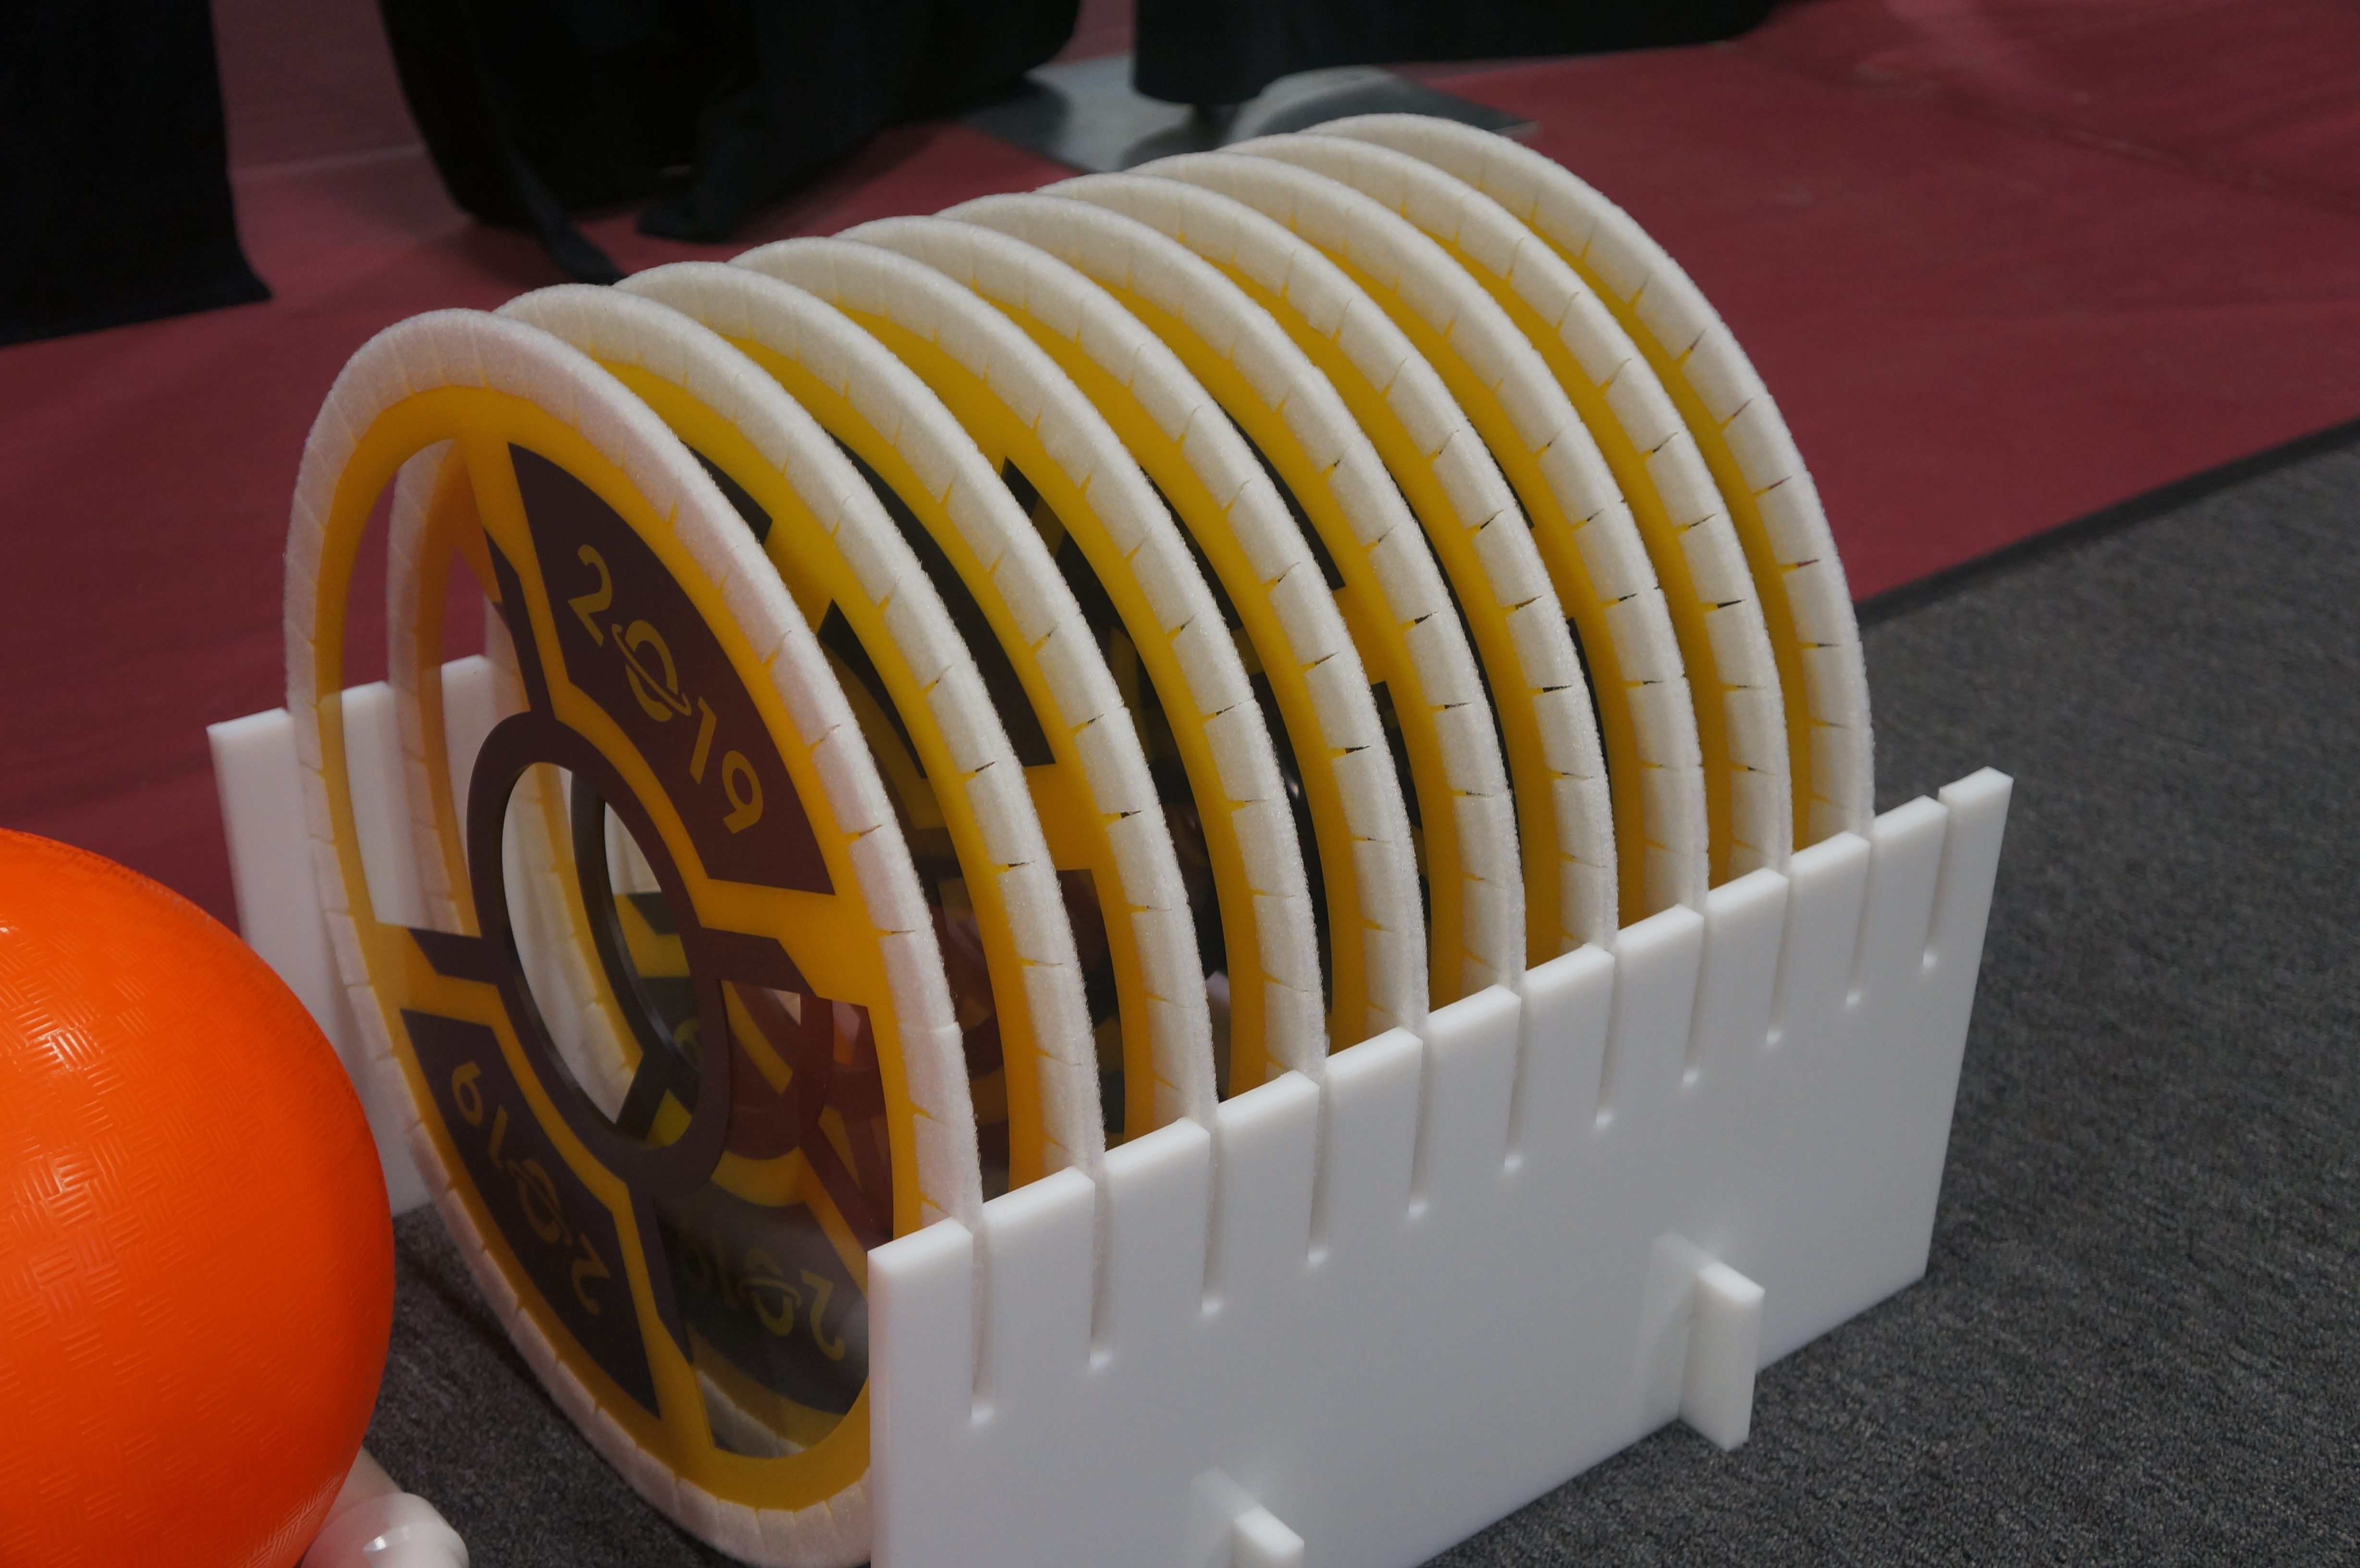Ball: (0, 819, 399, 1568)
Hatch: (282, 306, 983, 1568)
